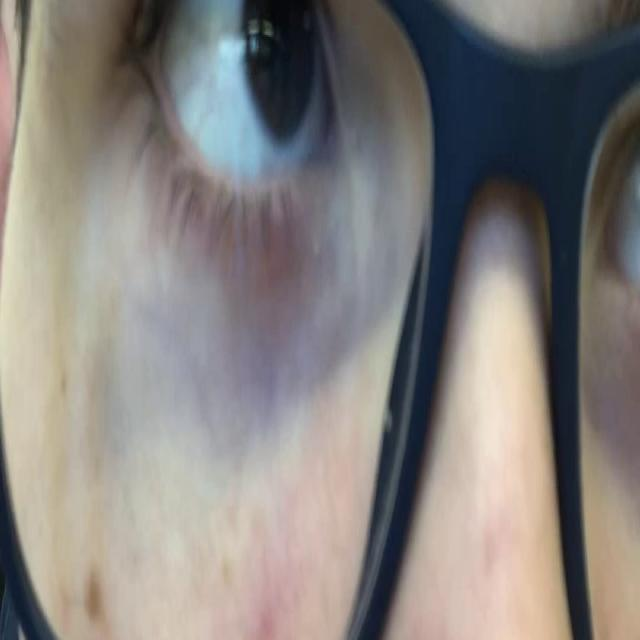eye: (105, 0, 353, 276)
gaze: (240, 0, 320, 146)
